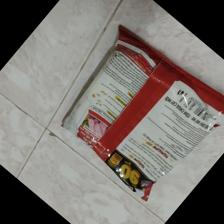Kokomi: (60, 26, 223, 203)
